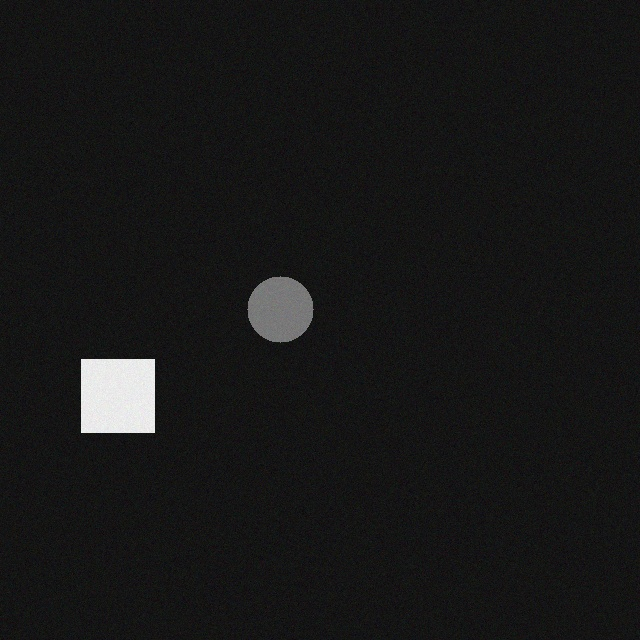circle: (245, 288, 311, 354)
square: (79, 371, 152, 444)
